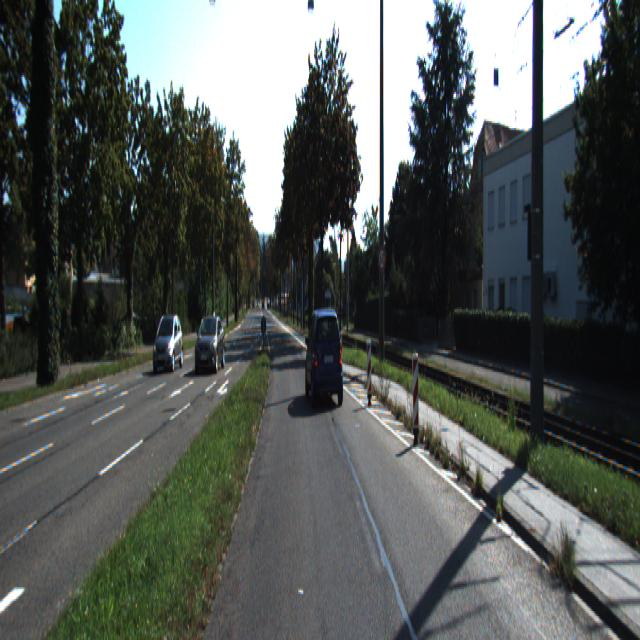Car: (304, 306, 344, 412), (193, 314, 224, 377), (152, 314, 183, 374)
